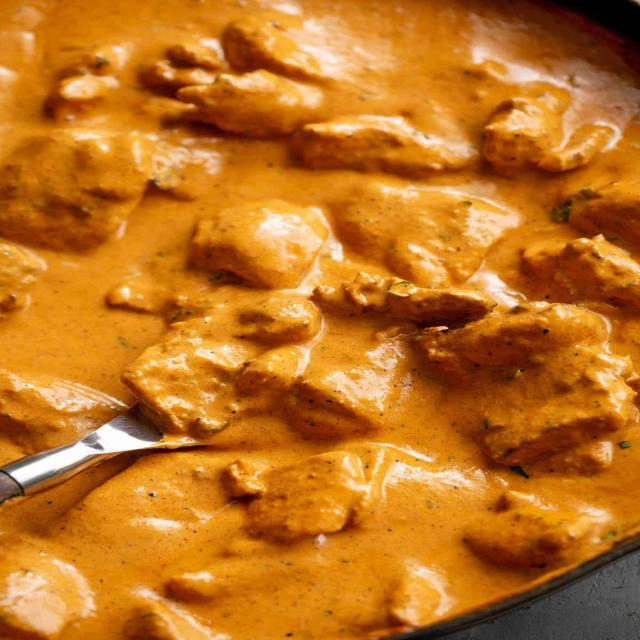chicken: (5, 6, 640, 638)
